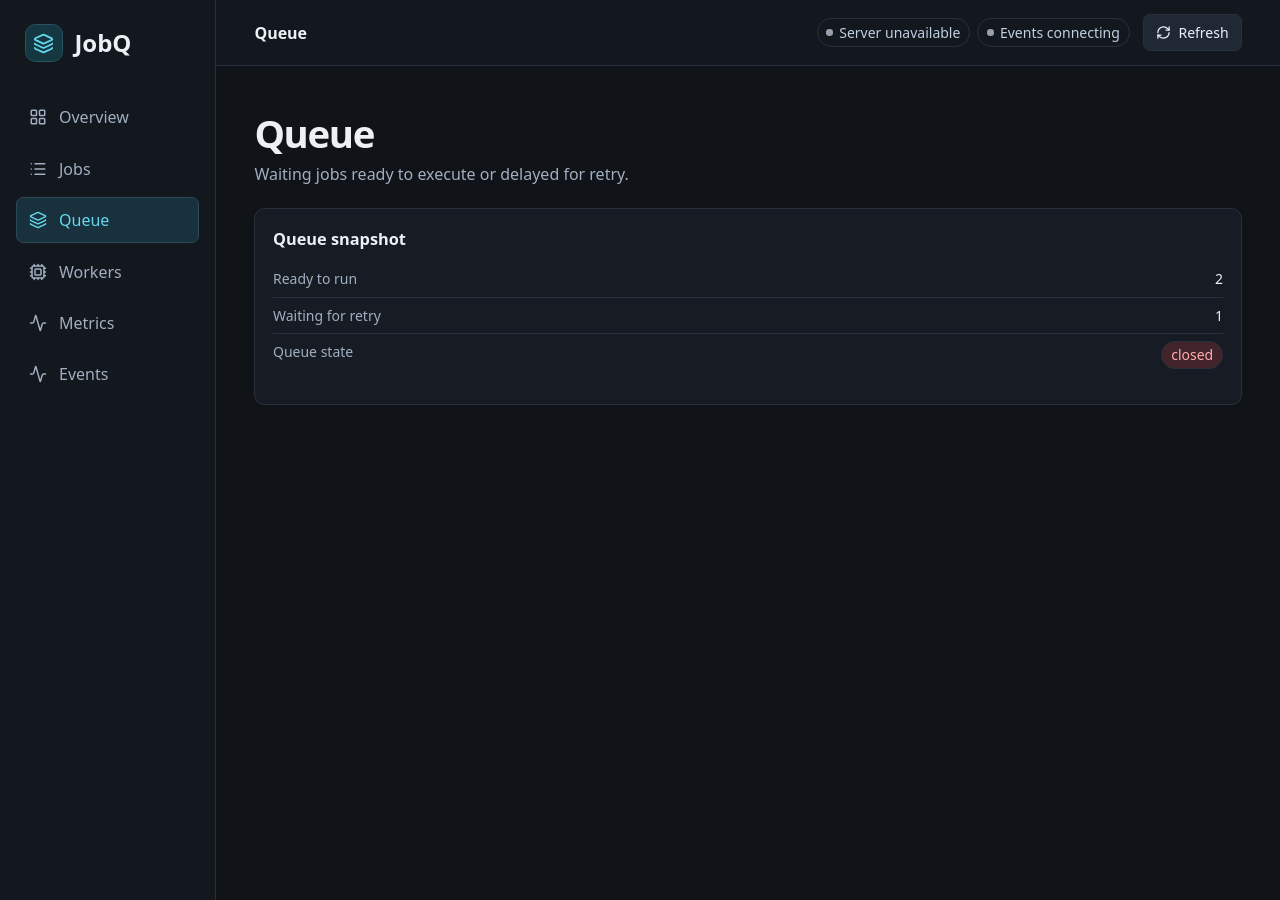
it: shows real queue and worker values and toggles navigation
Earlier steps of the test are not shown.
Click the link "Workers" at (75, 272), box top-left (29, 260), bottom-right (122, 282)
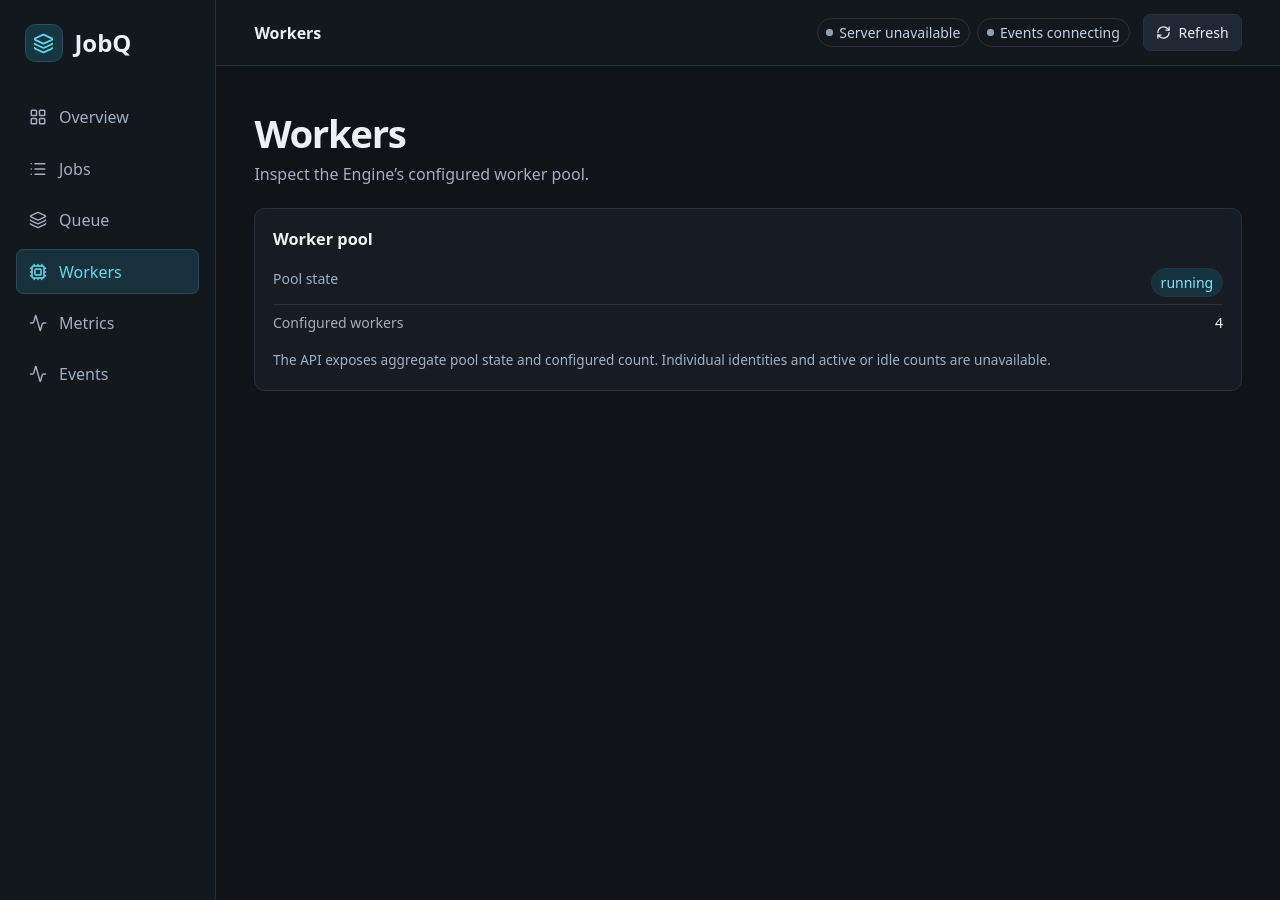
Now the text "4" is shown, box top-left (1215, 312), bottom-right (1223, 333)
